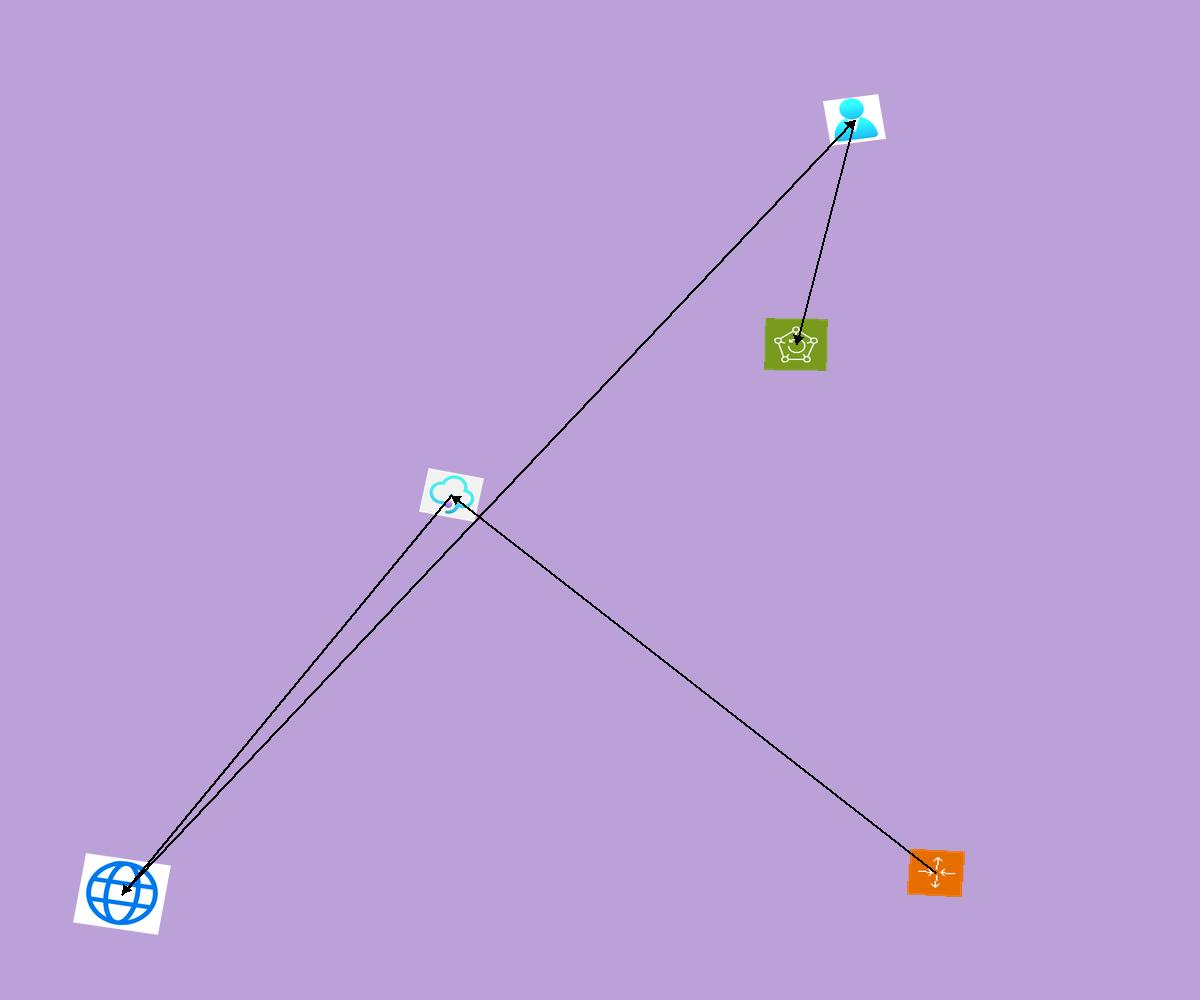AWS-Backup: (764, 318, 828, 371)
AWS-Scaling-group: (906, 848, 966, 898)
Azure_api_gateway: (419, 468, 484, 522)
Azure_http: (73, 853, 171, 935)
Azure_users: (823, 94, 886, 146)
